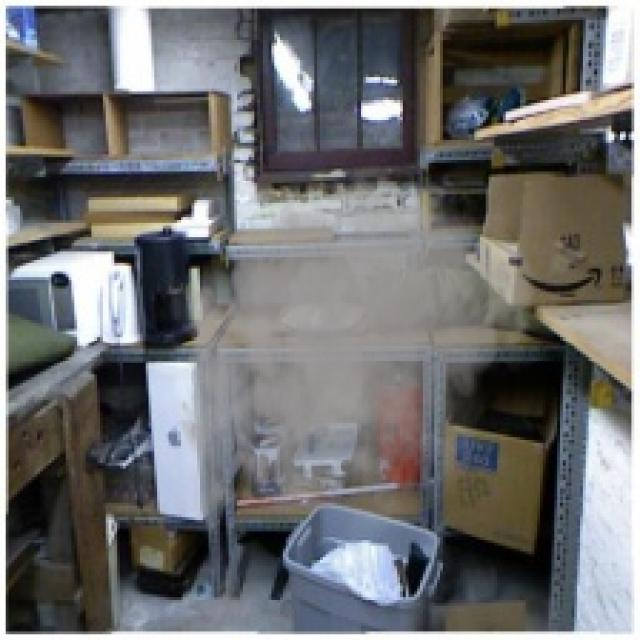smoke: (160, 154, 546, 549)
